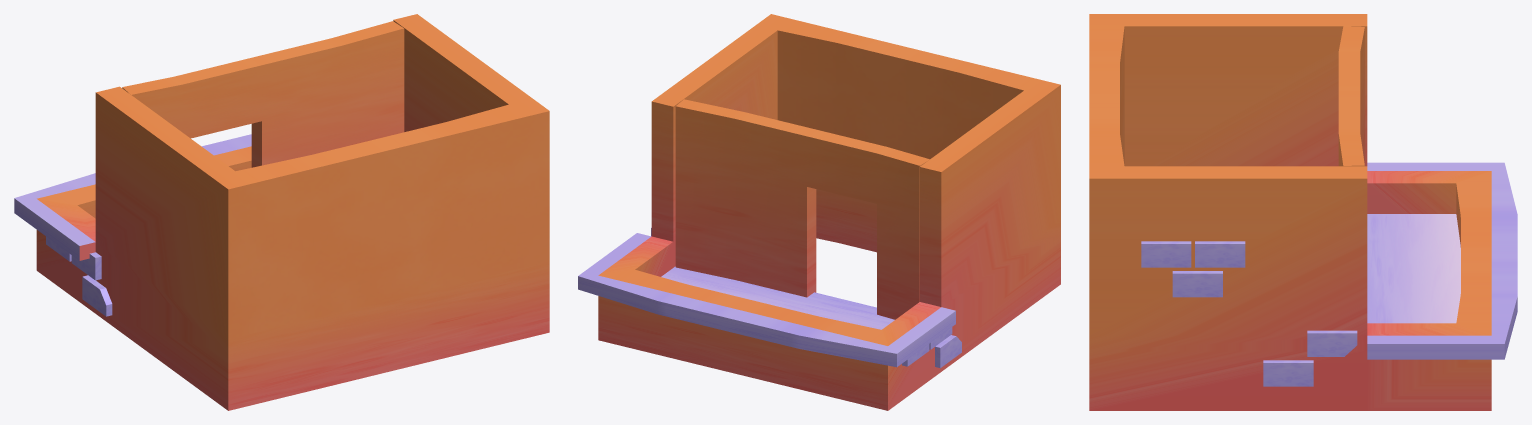
Rendered from B1_Top_Orange.fbx.
3 renders of one model, left to right at view 1: azimuth 30°, elevation 25°; view 2: azimuth 150°, elevation 25°; view 3: azimuth 270°, elevation 25°, orthographic. The views are drawn at different scales.
Visible parts, largest first — view 1: polySurface10; view 2: polySurface10; view 3: polySurface10.
Part boxes in pixels (x1,y1,x2,y2): polySurface10: [14, 14, 549, 410]; polySurface10: [578, 14, 1060, 410]; polySurface10: [1089, 14, 1517, 410].
Bounding box in the file's own units: 357 × 214 × 357.
